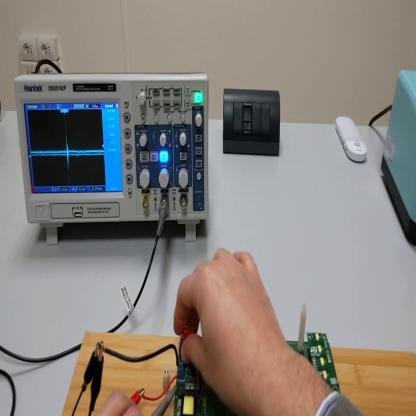hand: (174, 248, 292, 415), (98, 395, 144, 414)
low voltage board: (97, 304, 340, 416)
oscilloscope: (15, 72, 210, 244)
oscilloscope probe tip: (156, 382, 184, 411)
welder station: (381, 71, 415, 244)
working area: (63, 335, 415, 415)
